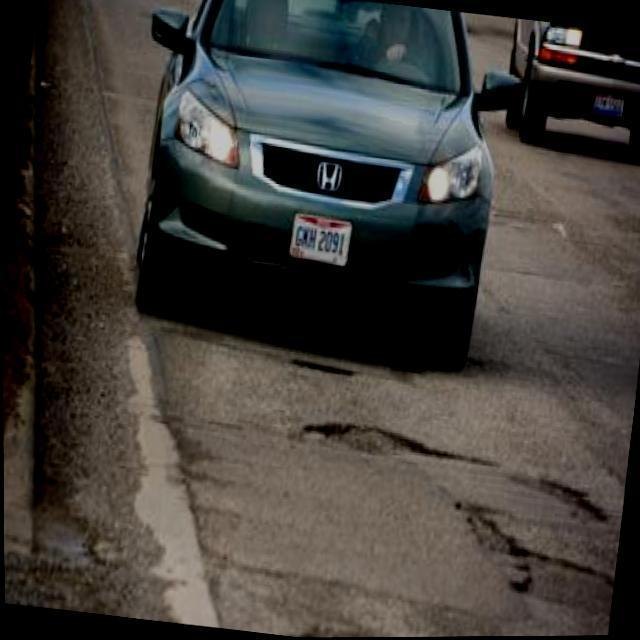Pothole: (299, 422, 496, 466), (514, 478, 608, 521)
